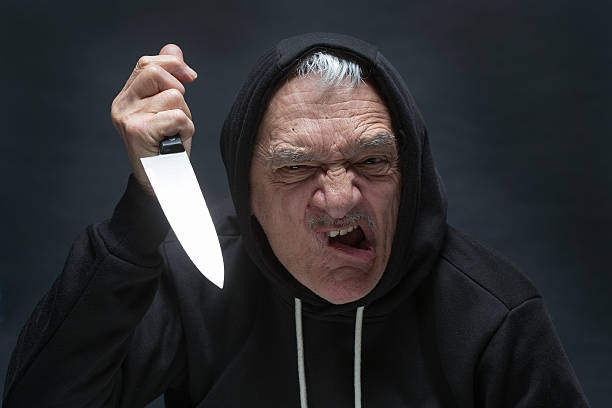knife: (133, 55, 230, 291)
person: (11, 25, 581, 408)
